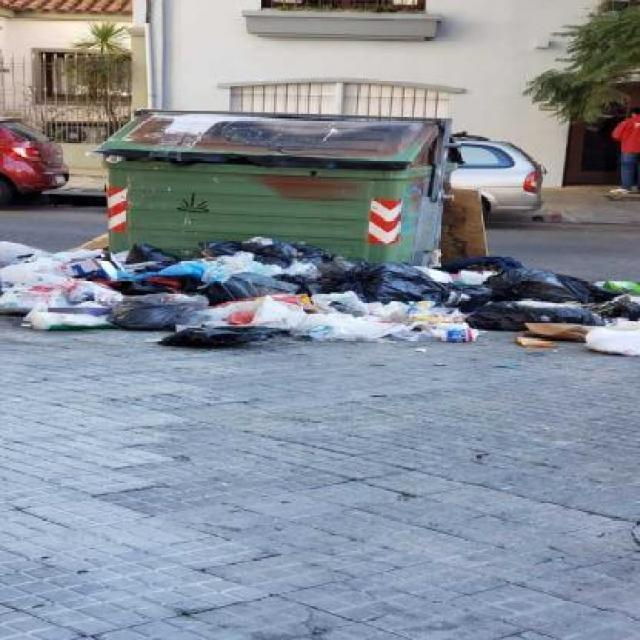garbage: (5, 235, 632, 372)
